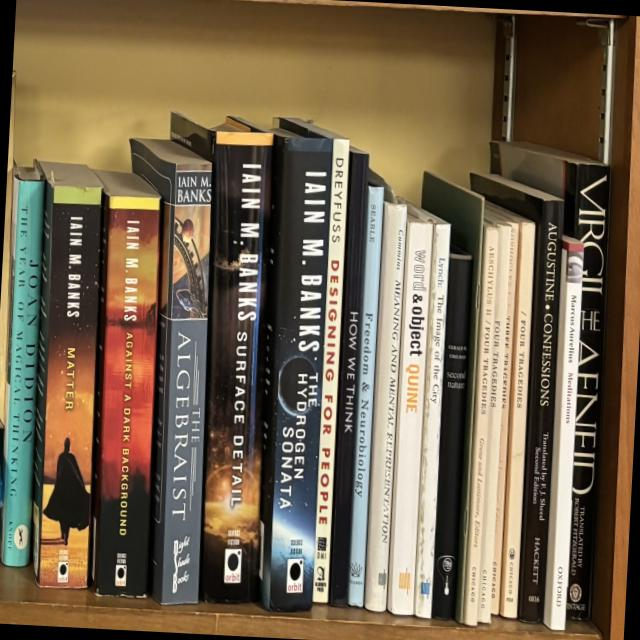book: (487, 125, 640, 621), (166, 112, 273, 602), (0, 161, 104, 588), (471, 173, 566, 622), (278, 115, 363, 603), (254, 127, 334, 612), (138, 142, 212, 605), (87, 171, 161, 597), (385, 205, 452, 619), (386, 211, 435, 616), (463, 220, 512, 623), (327, 147, 370, 606), (362, 201, 408, 612), (346, 185, 386, 607), (543, 236, 585, 630), (496, 216, 537, 619), (431, 246, 474, 620), (463, 222, 499, 625), (490, 222, 519, 614)
